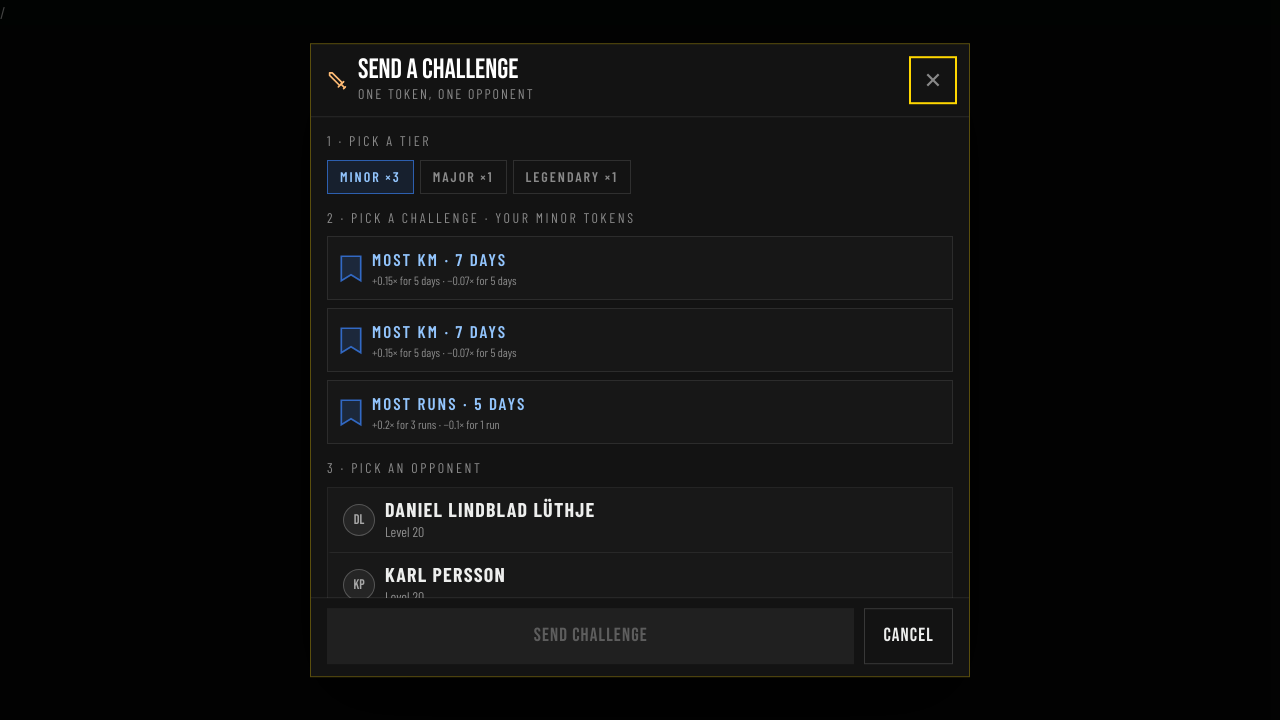
Scenario: the bet › the bet names the challenge and the opponent once both are chosen, and says what is missing before that
Click the radio button labelled "KP Karl Persson Level 20".
click(359, 585)  # box [328,552,952,617]
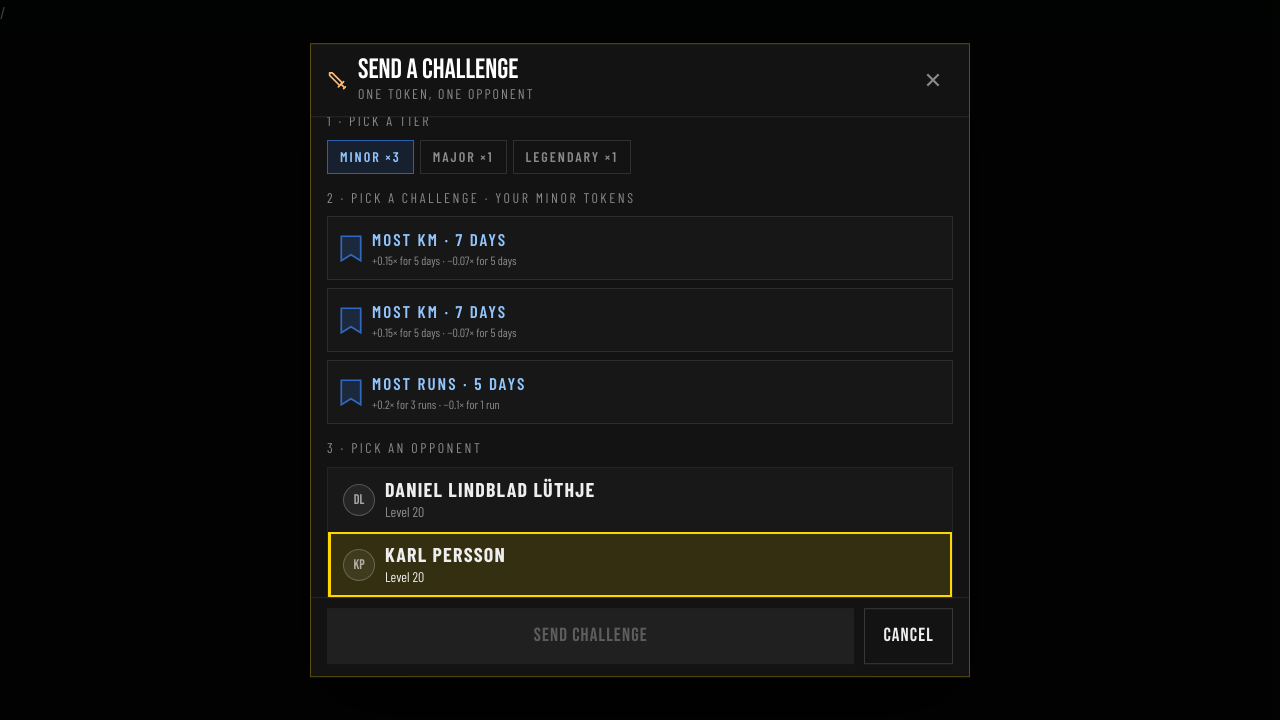
Click the 1st radio button labelled "Most km · 7 days +0.15× for 5 days · −0.07× for 5 days".
click(640, 248)  # box [327,216,953,280]
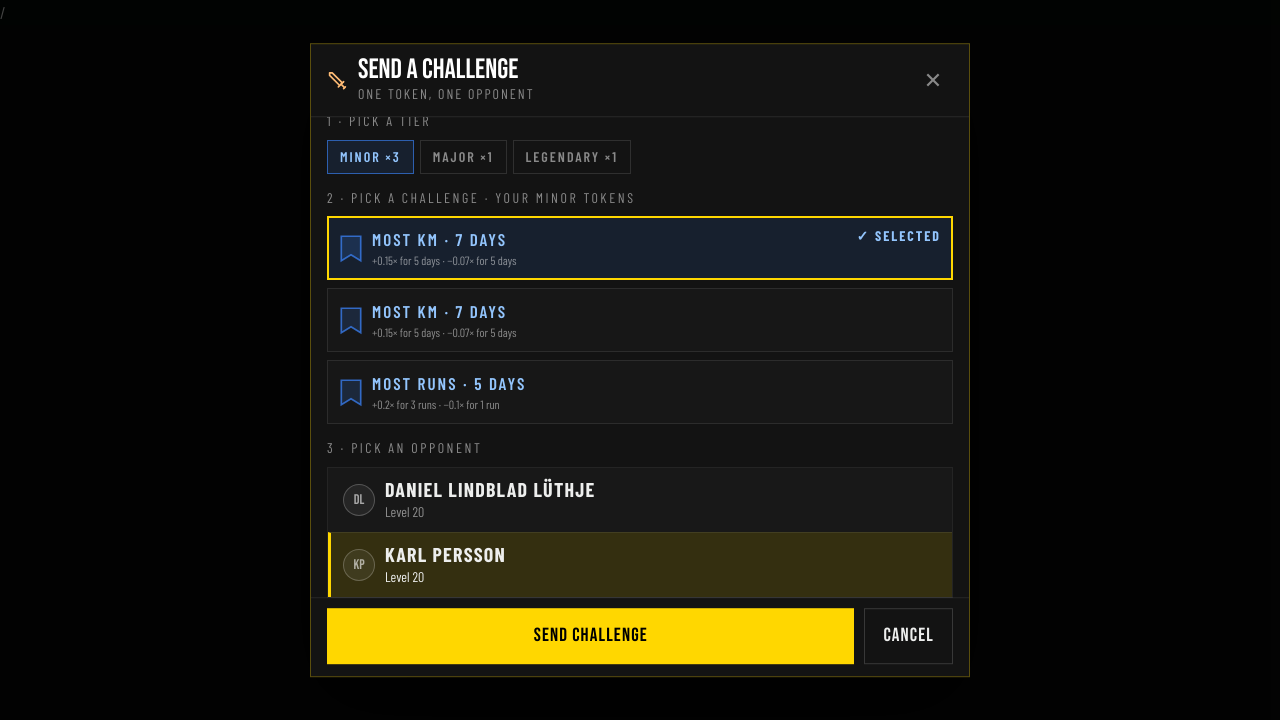
Click the radio button labelled "Most runs · 5 days +0.2× for 3 runs · −0.1× for 1 run".
click(640, 392)  # box [327,360,953,424]
(page scrolled)
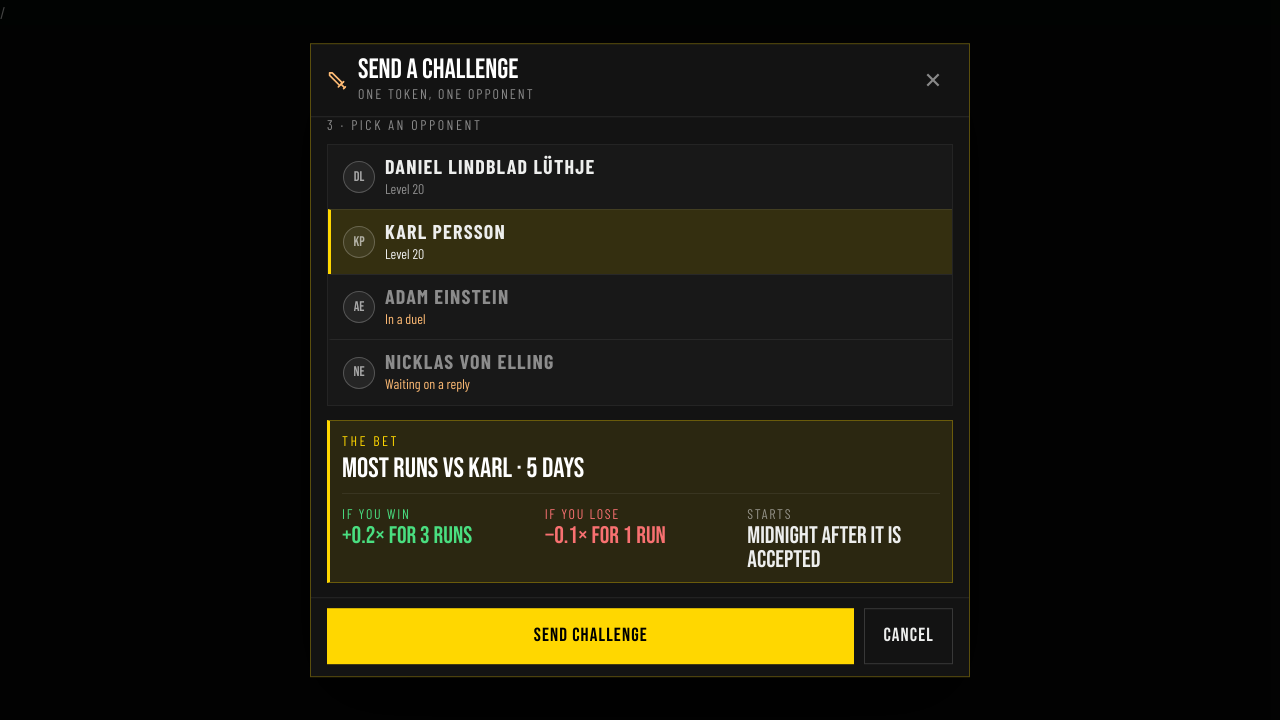
Check: the text "Most runs vs Karl · 5 days" is shown, box [342,452,584,485]
